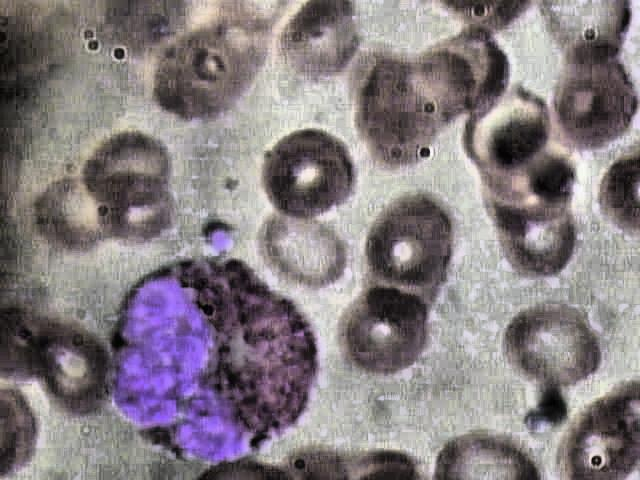Platelets: (192, 221, 238, 260)
RBC: (356, 191, 465, 314), (544, 37, 640, 156), (499, 295, 603, 401), (258, 124, 366, 225), (340, 286, 436, 380), (78, 126, 177, 215), (260, 212, 356, 302), (500, 206, 589, 285)
WBC: (75, 254, 340, 469)
